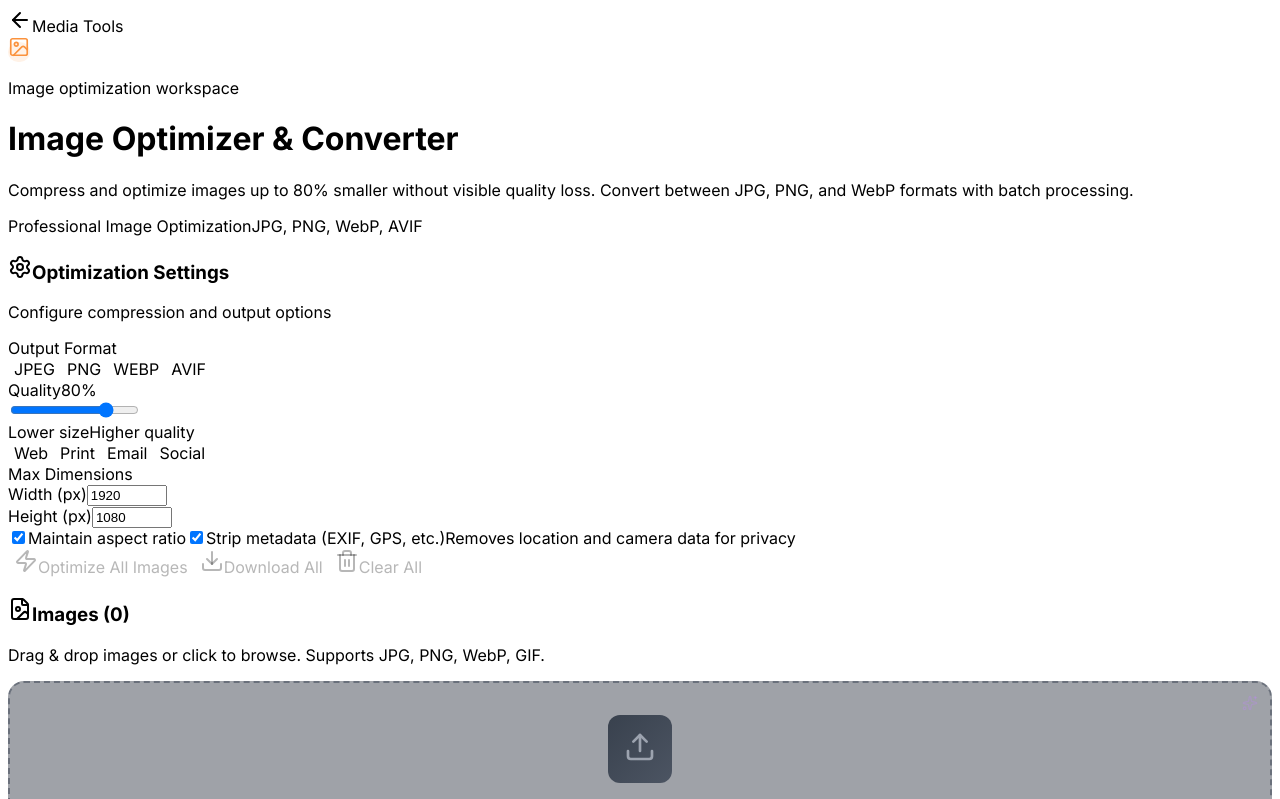
Test: Image Optimizer Page › User Interactions - Settings › should update quality when slider is changed
The width and height of the screenshot is (1280, 799).
Set the slider to "50" at (68, 410), box [10,402,139,418]
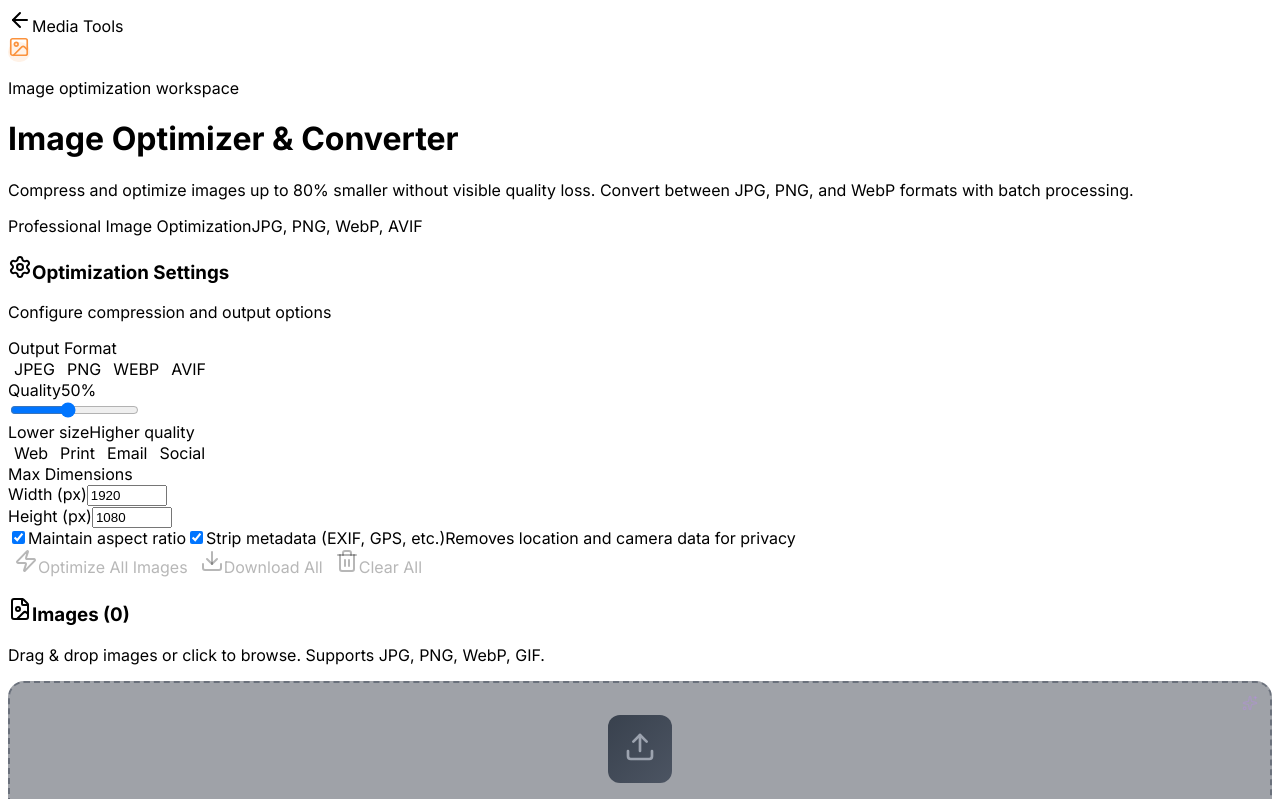
Now the text "50%" is shown, box [61,380,96,400]
